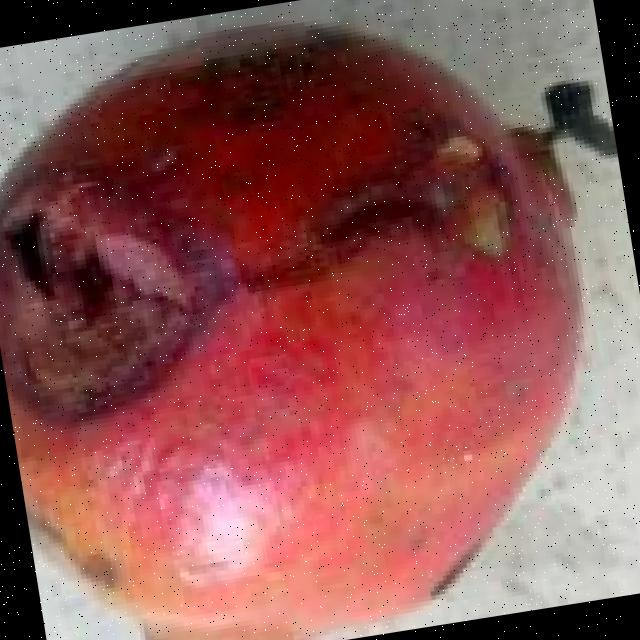Bad_Pomegranate-0-1-day: (0, 26, 618, 640)
